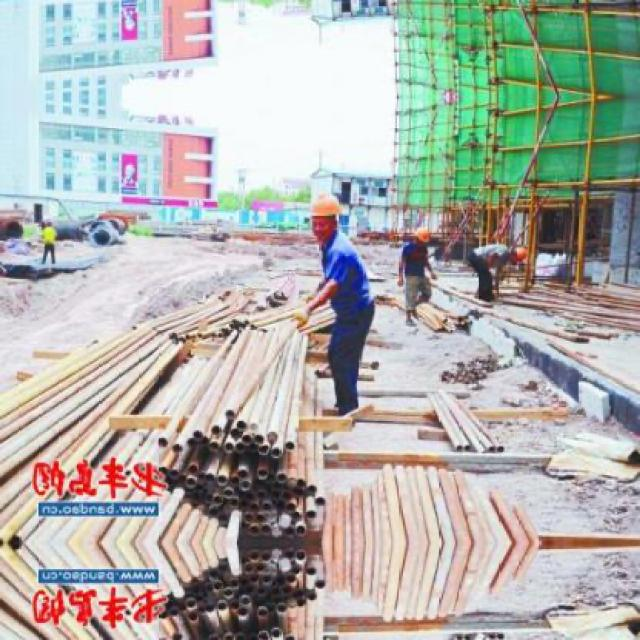helmet: (309, 185, 346, 244), (509, 242, 534, 264), (412, 224, 434, 245)
